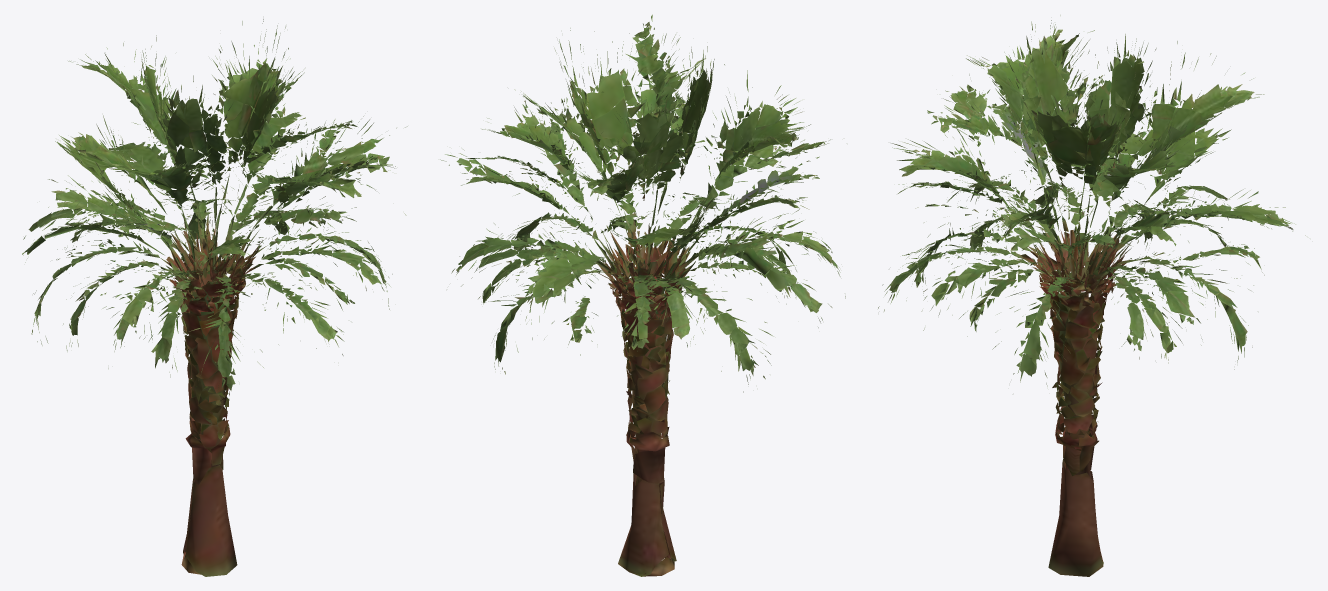
File: palm_c_p.glb
3 renders of one model, left to right at view 1: azimuth 30°, elevation 25°; view 2: azimuth 150°, elevation 25°; view 3: azimuth 270°, elevation 25°, orthographic.
Parts seen in each view (by area): view 1: Mesh_0; view 2: Mesh_0; view 3: Mesh_0.
Boxes of the visible parts, x1,y1,x2,y2 form: Mesh_0: [22, 19, 407, 576]; Mesh_0: [440, 14, 845, 576]; Mesh_0: [878, 15, 1305, 576].
Bounding box in the file's own units: 1.3 × 1.87 × 1.4.
1 material, 1 textured.
